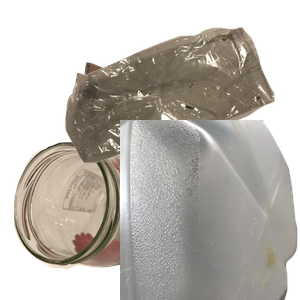cardboard: (75, 59, 237, 176)
glass: (11, 139, 179, 300)
plastic: (120, 120, 300, 300)
trash: (63, 24, 300, 179)
